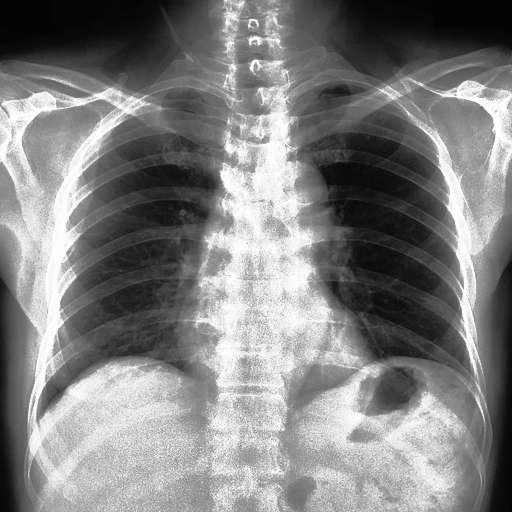Consolidation: (275, 163, 328, 211)
